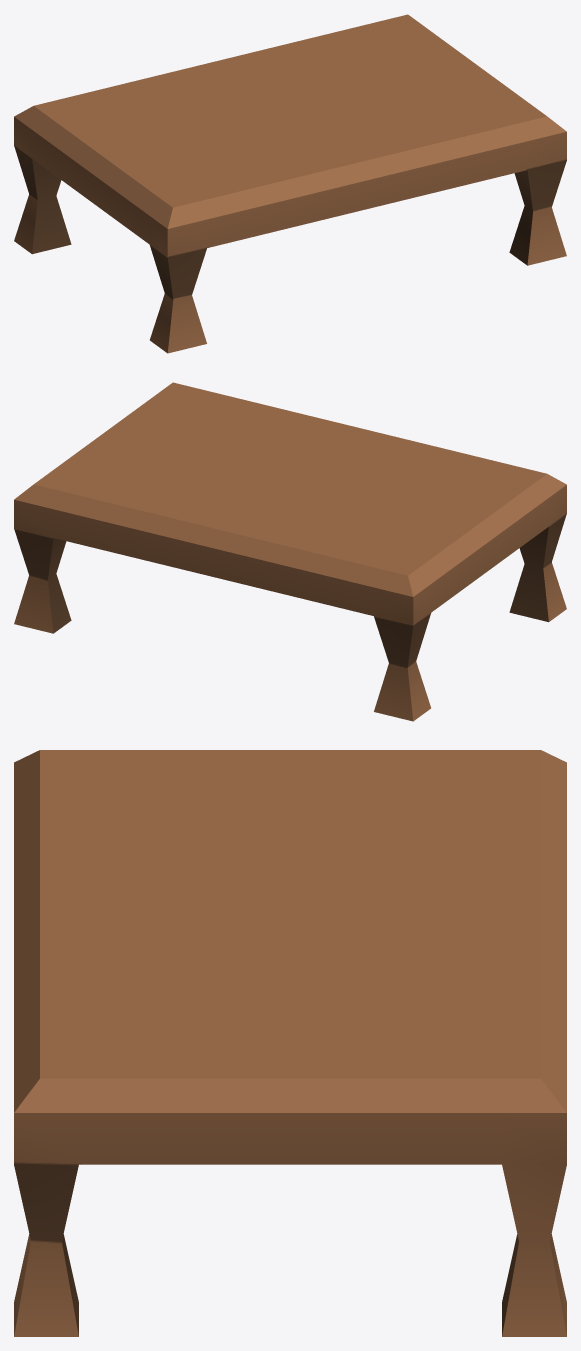
File: Small_Table_Unwrapped.FBX
The picture shows the model from 3 angles, top to bottom: view 1: azimuth 30°, elevation 25°; view 2: azimuth 150°, elevation 25°; view 3: azimuth 270°, elevation 25°; orthographic projection. The views are drawn at different scales.
Parts seen in each view (by area): view 1: Small_Table_1; view 2: Small_Table_1; view 3: Small_Table_1.
Part boxes in pixels (bbox=[...]): Small_Table_1: bbox=[14, 14, 566, 353]; Small_Table_1: bbox=[14, 382, 566, 721]; Small_Table_1: bbox=[14, 750, 566, 1336].
Bounding box in the file's own units: 1.5 × 0.4936 × 1.
